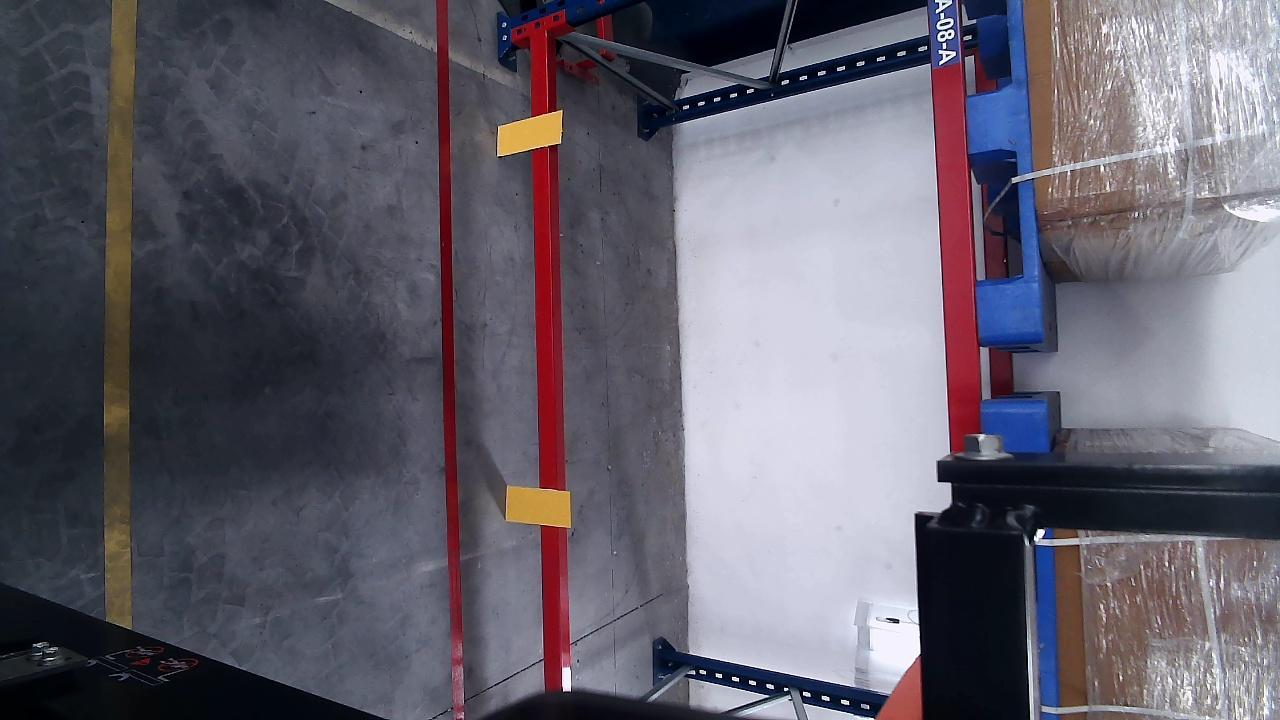h_rack: (925, 1, 979, 441), (529, 28, 565, 687)
orange_strip: (495, 111, 560, 156), (504, 487, 570, 526)
red_line: (435, 1, 468, 720)
small_pallet: (957, 0, 1046, 336)
yellow_line: (101, 0, 137, 624)
